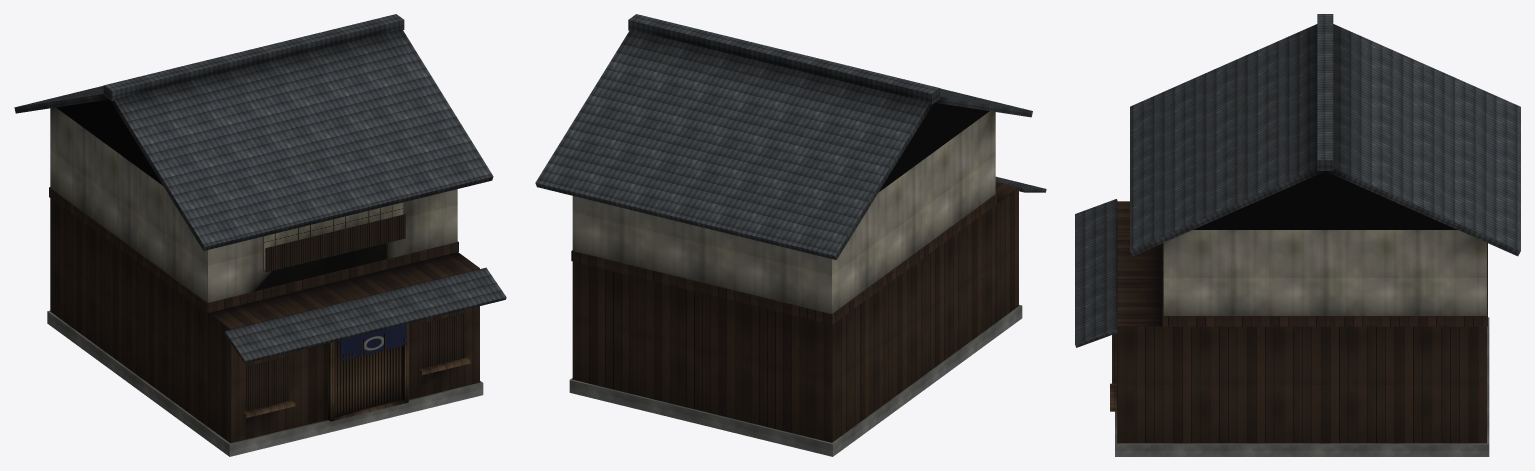
File: machiya.glb
3 renders of one model, left to right at view 1: azimuth 30°, elevation 25°; view 2: azimuth 150°, elevation 25°; view 3: azimuth 270°, elevation 25°, orthographic. The views are drawn at different scales.
Visible parts, largest first — view 1: machiya; view 2: machiya; view 3: machiya.
Boxes of the visible parts, x1,y1,x2,y2 form: machiya: (14,14,506,456); machiya: (535,14,1046,456); machiya: (1075,14,1520,456).
Bounding box in the file's own units: 7.5 × 7.31 × 9.65.
Materials: 11 (11 with a texture image).
